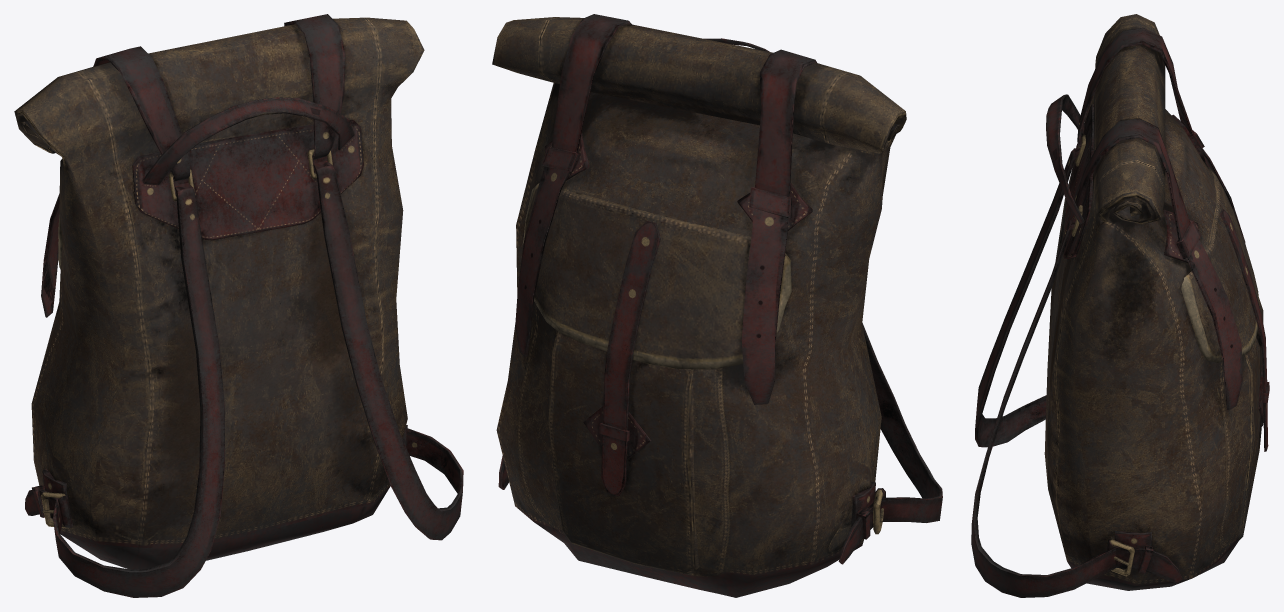
Rendered from backpack.glb.
3 renders of one model, left to right at view 1: azimuth 30°, elevation 25°; view 2: azimuth 150°, elevation 25°; view 3: azimuth 270°, elevation 25°, orthographic. The views are drawn at different scales.
Visible parts, largest first — view 1: bag, strap_r1, strap_r, back_leather, top_strap; view 2: bag, front_flap, strap_r1, strap_r, leather_piece_03, leather_piece_01; view 3: bag, strap_r, strap_r1, front_flap, back_leather, top_strap, leather_piece_02.
Boxes of the visible parts, box(x1,y1,x2,y2) form: bag: box(14, 17, 424, 569); strap_r1: box(25, 46, 224, 597); strap_r: box(284, 14, 463, 540); back_leather: box(132, 119, 363, 240); top_strap: box(143, 97, 354, 185); bag: box(492, 17, 906, 597); front_flap: box(523, 183, 791, 495); strap_r1: box(741, 49, 942, 564); strap_r: box(498, 14, 631, 489); leather_piece_03: box(583, 406, 651, 459); leather_piece_01: box(737, 182, 812, 230); bag: box(1044, 14, 1263, 590); strap_r: box(971, 118, 1242, 597); strap_r1: box(975, 27, 1245, 447); front_flap: box(1181, 166, 1269, 451); back_leather: box(1063, 104, 1093, 258); top_strap: box(1046, 94, 1084, 224); leather_piece_02: box(1163, 209, 1199, 263).
Bounding box in the file's own units: 102 × 125 × 72.54.
Materials: 1 (1 with a texture image).
